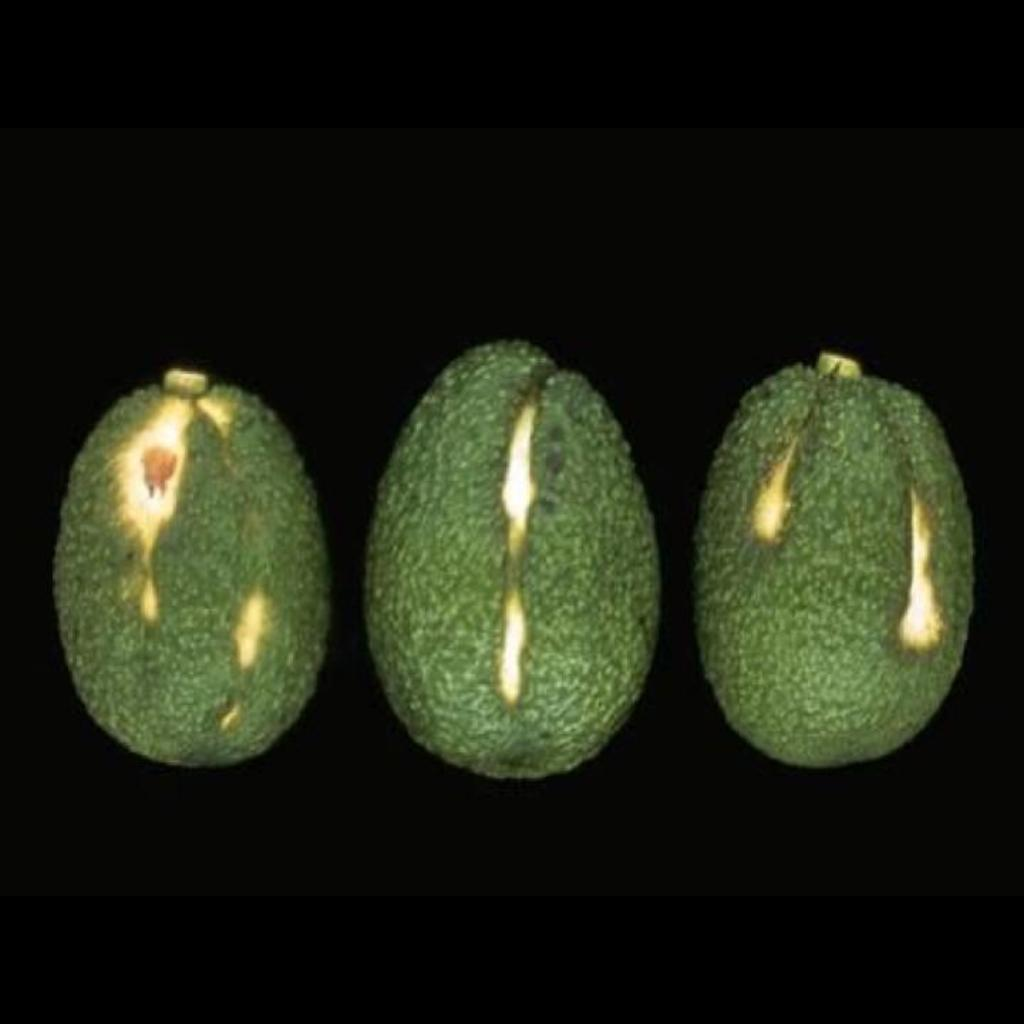sunblotch: (0, 128, 352, 840), (368, 274, 652, 812), (698, 303, 972, 819)
